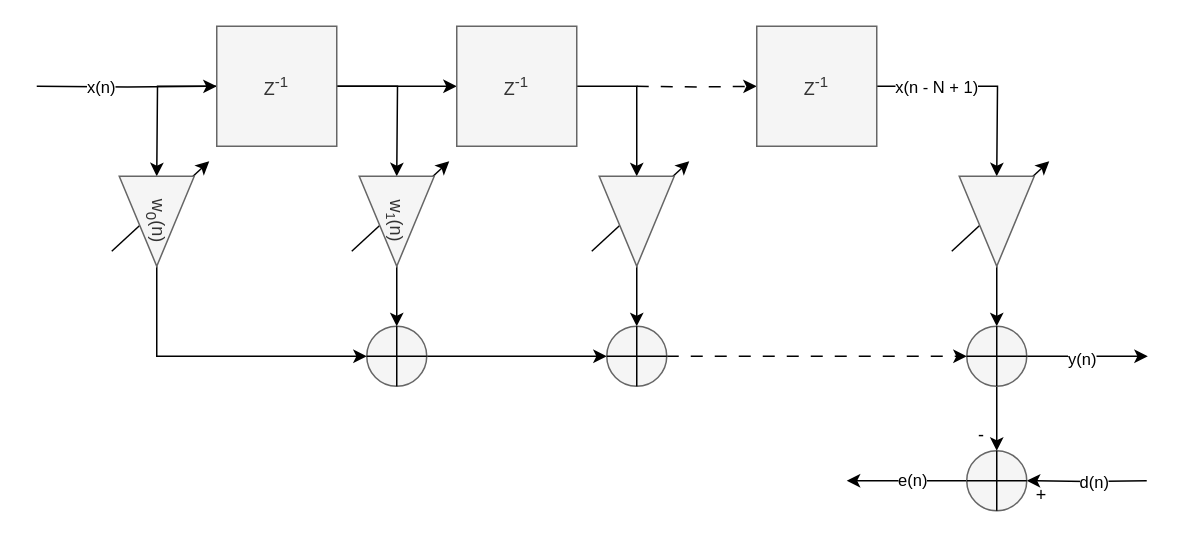
Image size: 1187x539. Some labels were removed from this diagram. The shapes that lost their labels are listed below. From the top down, each one's box as (x1, y1, x2, y2) in pixels, then its label:
(598, 175, 674, 266): w 2 (n)
(958, 175, 1034, 266): w N-1 (n)
